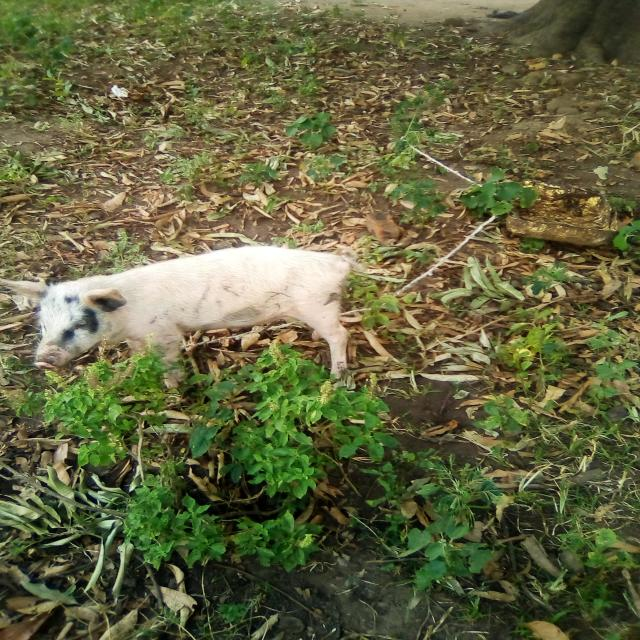pig: (0, 223, 401, 409)
